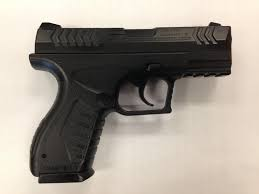gun: (28, 19, 236, 187)
